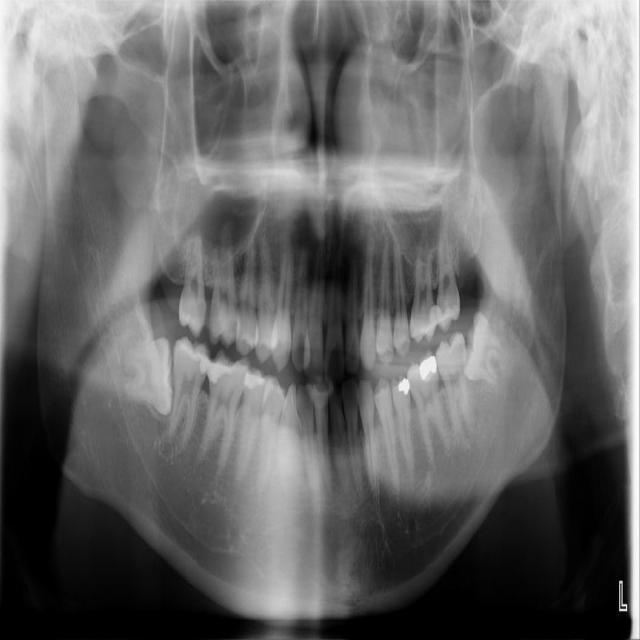52: (194, 350, 238, 388), (414, 301, 451, 333), (415, 355, 442, 380), (244, 372, 266, 389), (396, 377, 413, 395)
73: (588, 586, 597, 600)
BioHorizons Implant: (436, 235, 463, 333)
Biomet 3i Implant: (457, 310, 515, 387)
Blue Sky Bio Implant: (434, 332, 473, 439)
Caries: (178, 236, 208, 337)
Implant: (168, 336, 210, 449)
Keystone Dental Implant: (122, 336, 177, 418)
